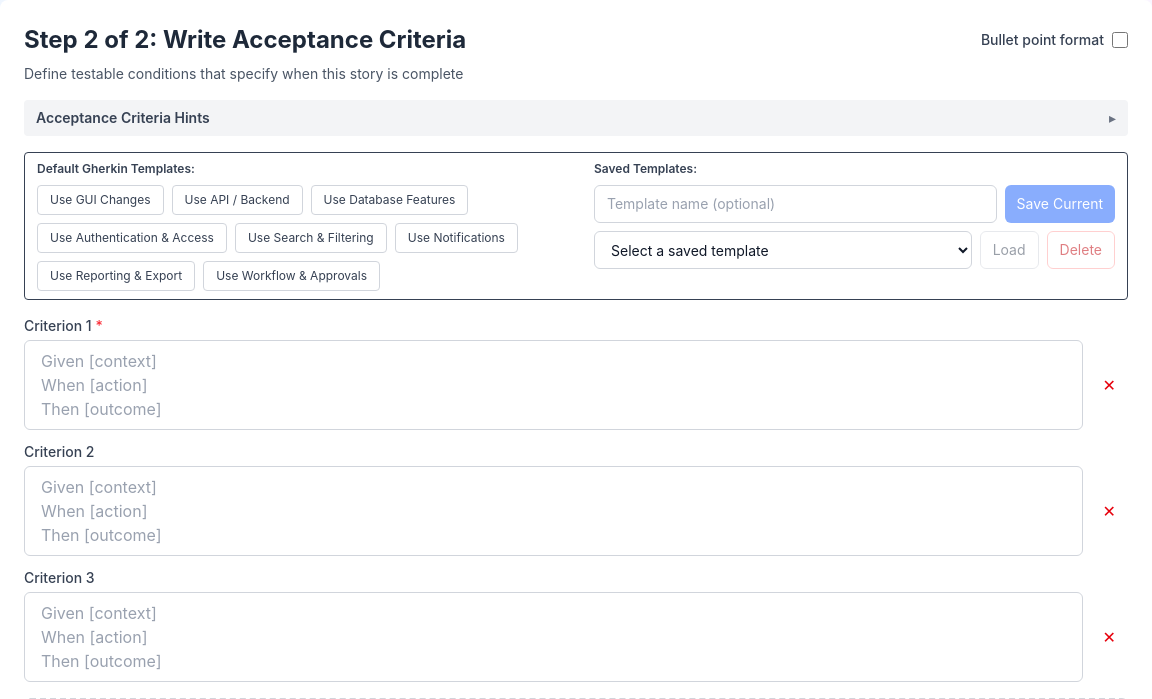
AcceptanceCriteriaForm › should show a blur hint for bullet format when criterion does not start with expected prefix
The width and height of the screenshot is (1152, 699).
Click the checkbox labelled "Bullet point format" at (1120, 40), box [1112,32,1128,48]
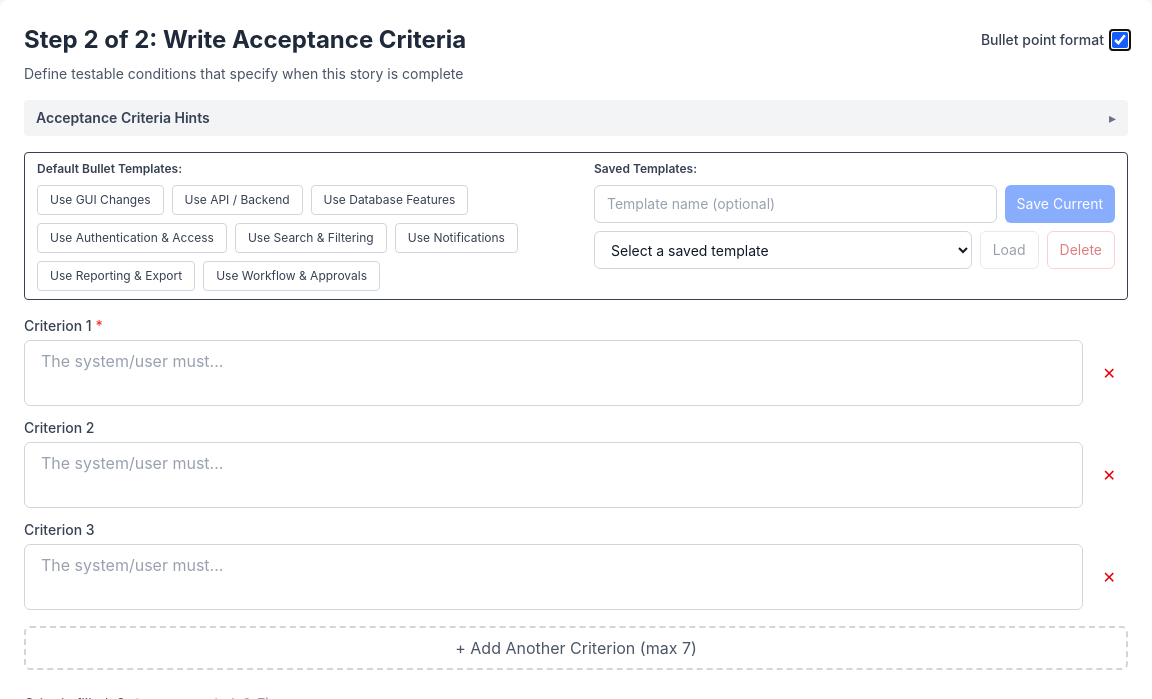
Type "User logs in to the system without a proper prefix" into the text box labelled "Criterion 1 *" at (553, 373), box [24,340,1083,406]
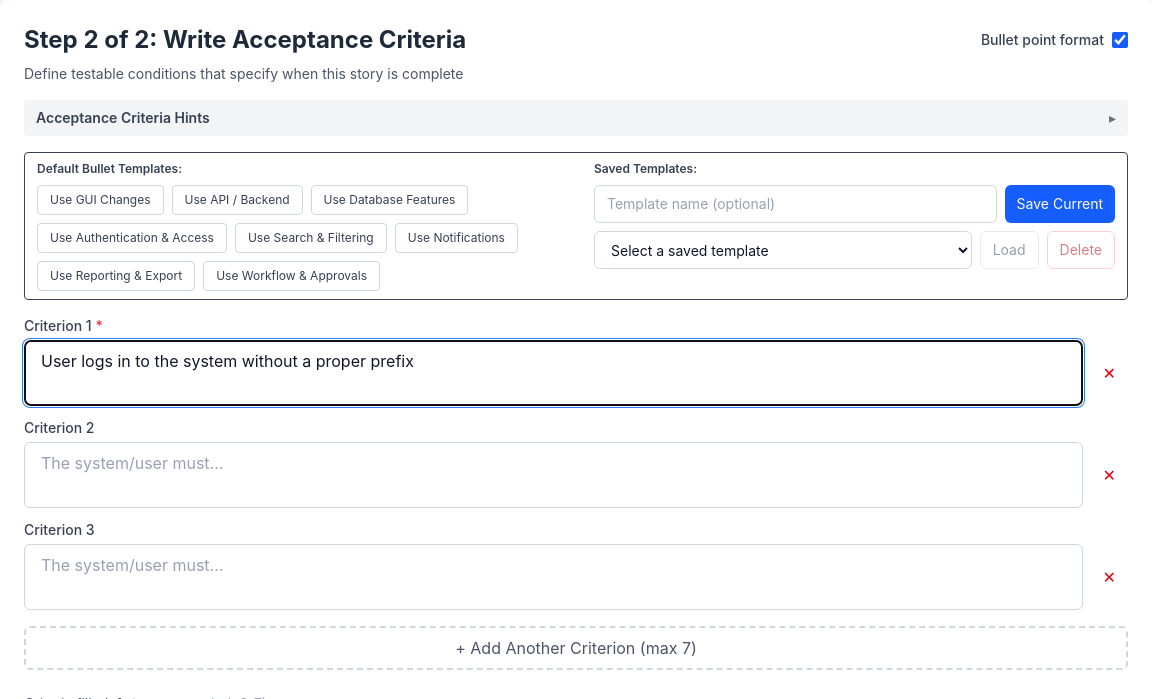
Press Tab
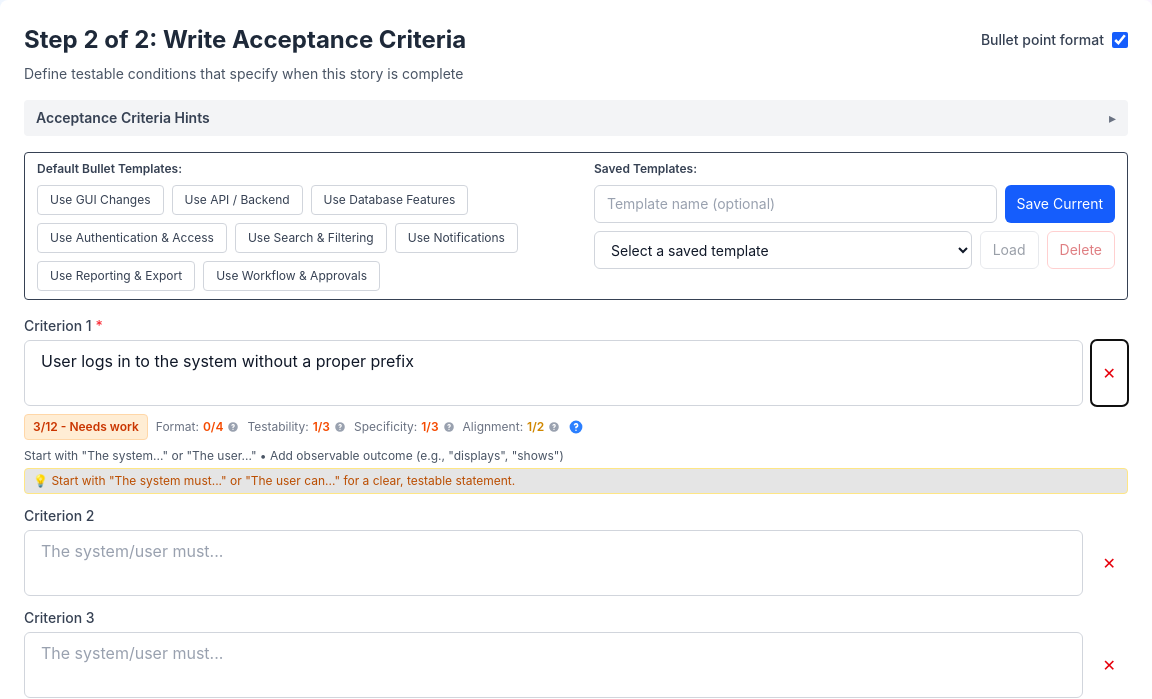
Expected: the text "💡 Start with \"The system must...\" or \"The user can...\" for a clear, testable st" is shown, [51,473,515,488]
